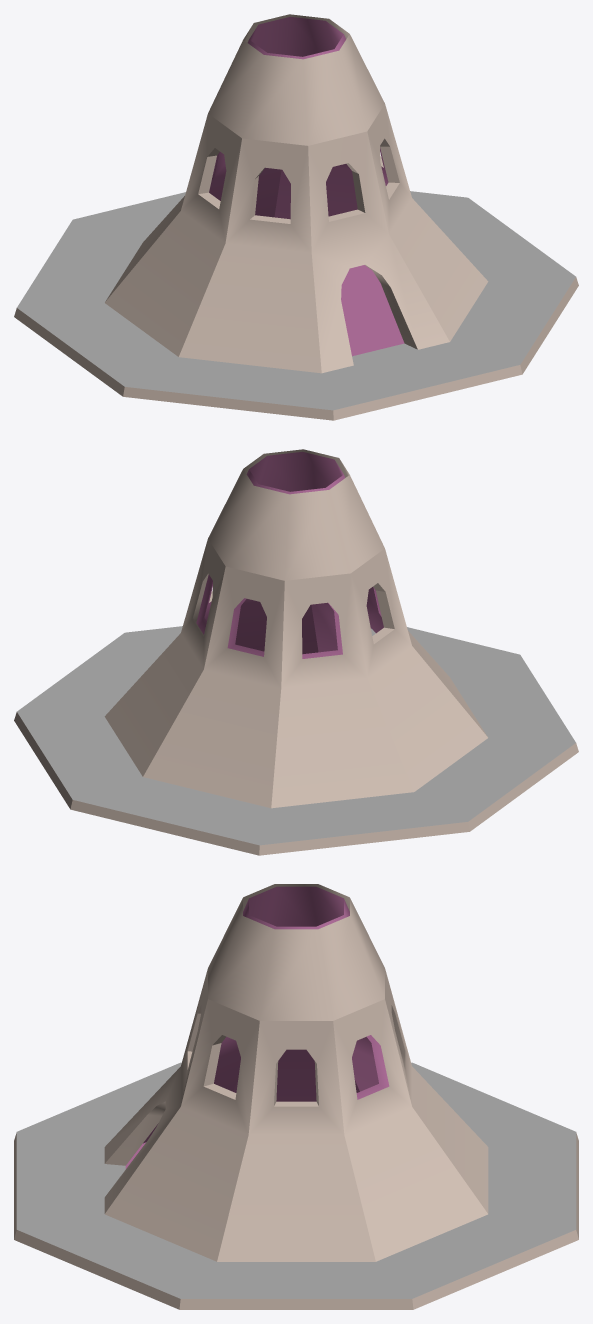
Rendered from LightHouse Collission.fbx.
3 renders of one model, top to bottom at view 1: azimuth 30°, elevation 25°; view 2: azimuth 150°, elevation 25°; view 3: azimuth 270°, elevation 25°, orthographic. The views are drawn at different scales.
Parts seen in each view (by area): view 1: polySurface1; view 2: polySurface1; view 3: polySurface1.
Part boxes in pixels (x1,y1,x2,y2): polySurface1: [14, 14, 578, 420]; polySurface1: [14, 449, 578, 855]; polySurface1: [14, 884, 578, 1309].
Bounding box in the file's own units: 6.32 × 3.5 × 6.32.
